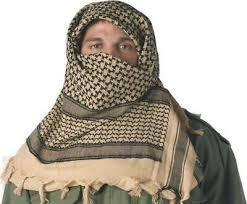scarf-kerchief: (48, 0, 205, 170)
